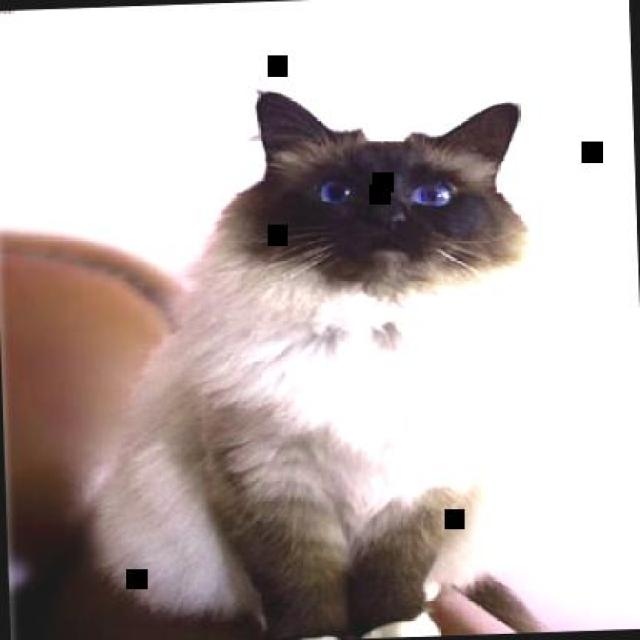cat: (72, 81, 545, 638)
